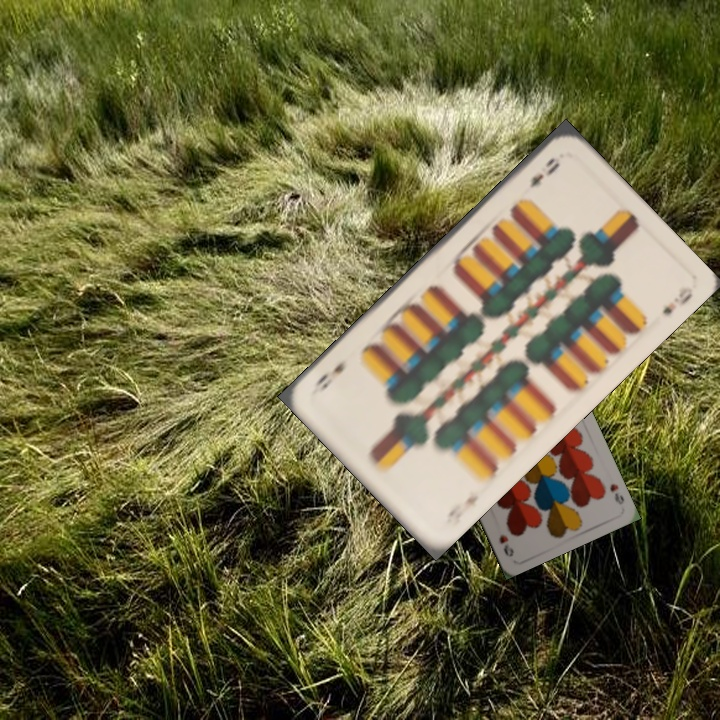E9: (441, 491, 482, 527), (525, 153, 563, 191)
H9: (606, 480, 627, 507)
